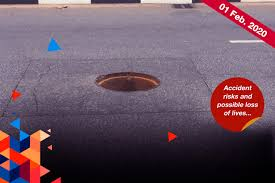Manhole-Open: (98, 67, 166, 97)
